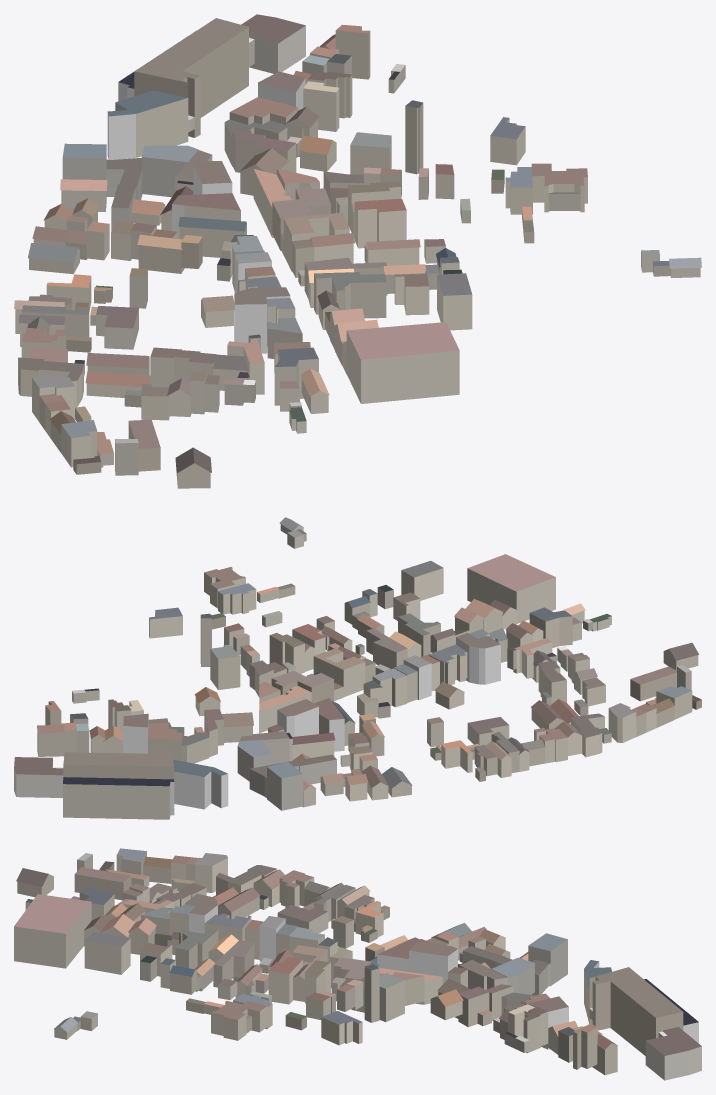
3 views of the same model, one above another, from view 1: azimuth 30°, elevation 25°; view 2: azimuth 150°, elevation 25°; view 3: azimuth 270°, elevation 25° (orthographic). The views are drawn at different scales.
Parts seen in each view (by area): view 1: tuile; view 2: tuile; view 3: tuile.
Part boxes in pixels (x1,y1,x2,y2): tuile: (14, 14, 701, 488); tuile: (14, 517, 701, 819); tuile: (14, 848, 701, 1080).
Size of the model in its own units: 209 by 41.56 by 263.
